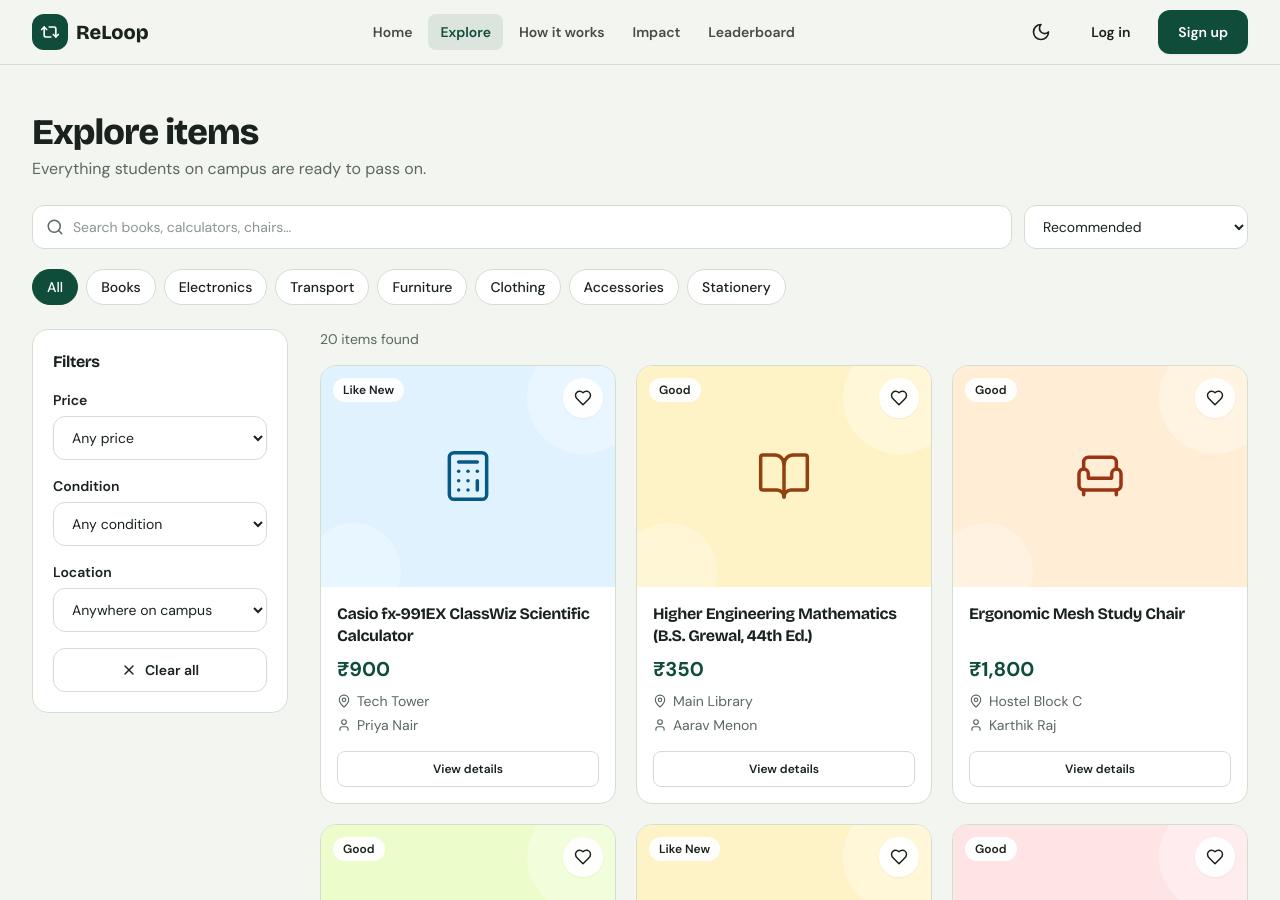
Scenario: Explore search, filters and sorting › filters results by search text
The width and height of the screenshot is (1280, 900).
Type "calculator" into the search field named "Search items" at (522, 227), box [32,205,1012,249]
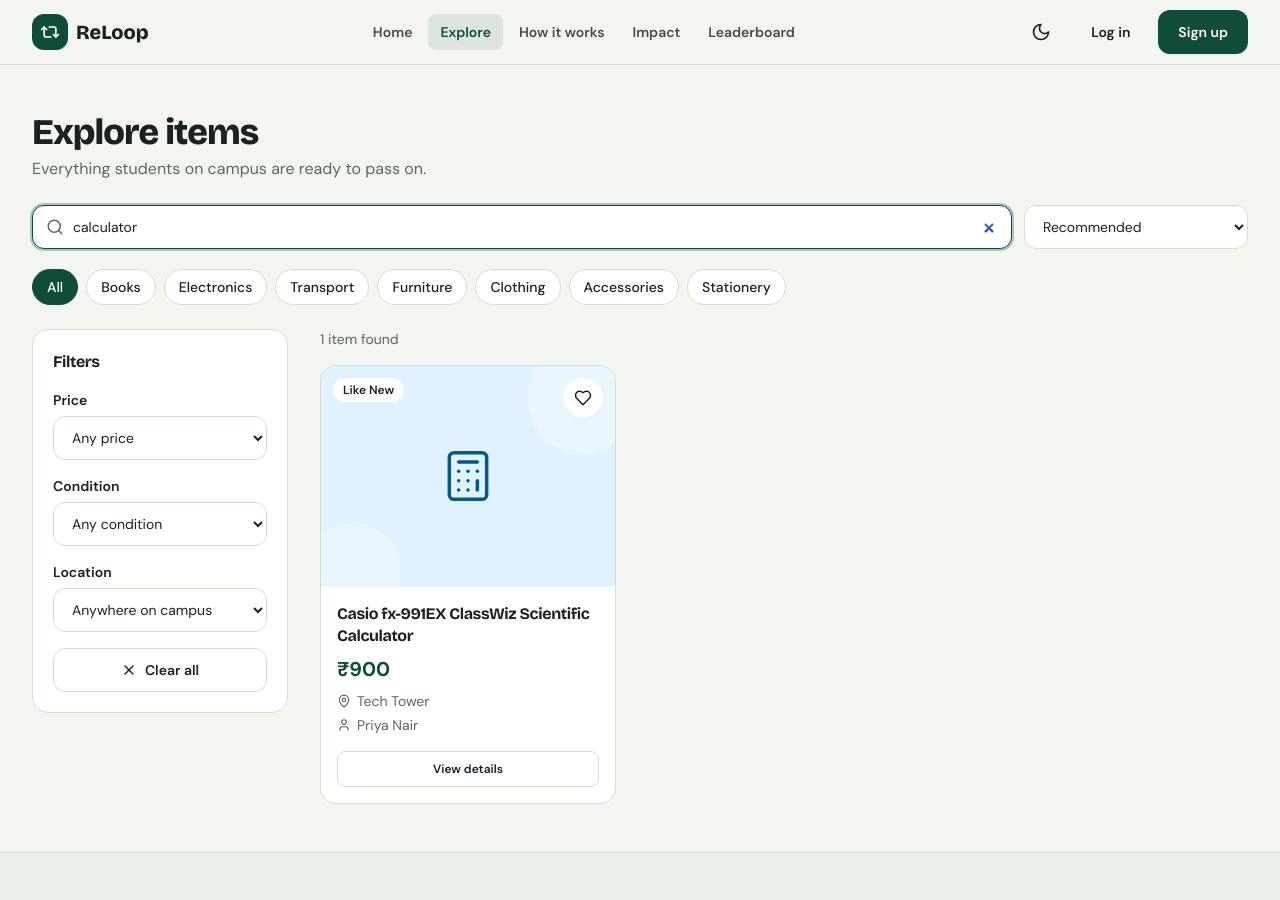
Expected: the link "Casio fx-991EX ClassWiz Scientific Calculator" is shown, [337,604,589,644]
Expected: the link "Mesh Study Chair" is gone
